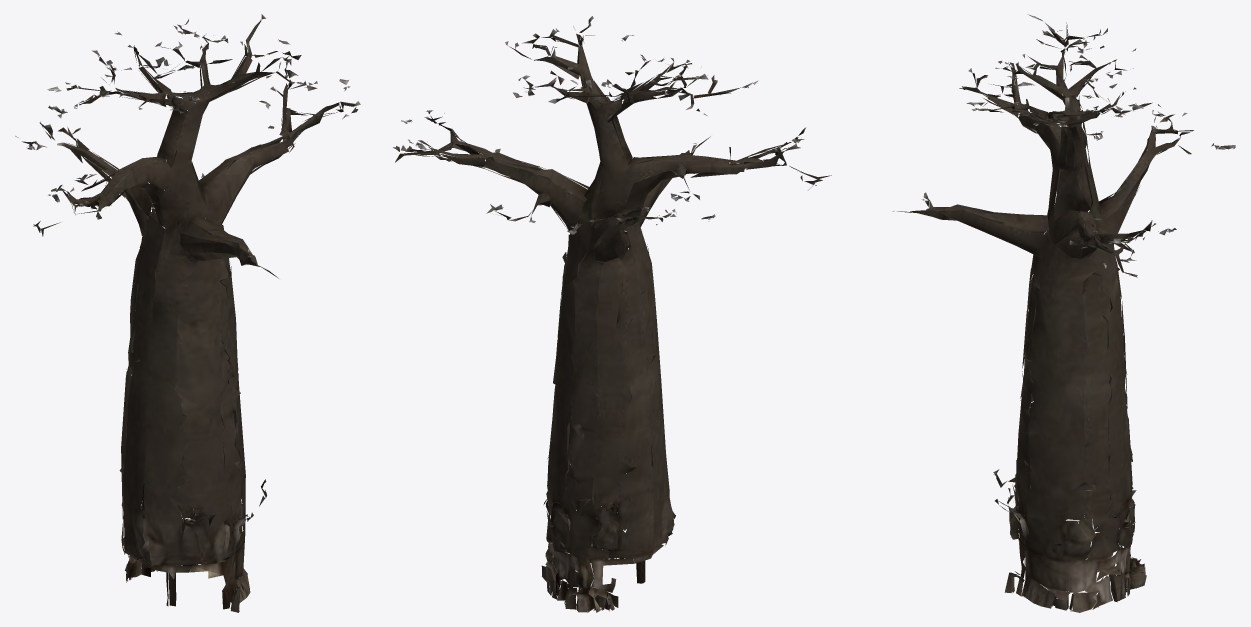
Rendered from baoba_zahar_morta.glb.
3 views of the same model, side by side, from view 1: azimuth 30°, elevation 25°; view 2: azimuth 150°, elevation 25°; view 3: azimuth 270°, elevation 25° (orthographic). The views are drawn at different scales.
Parts seen in each view (by area): view 1: geometry_0; view 2: geometry_0; view 3: geometry_0.
Part boxes in pixels (left/top/right/bottom): geometry_0: left=15, top=14, right=360, bottom=612; geometry_0: left=393, top=16, right=831, bottom=612; geometry_0: left=892, top=14, right=1235, bottom=612.
Size of the model in its own units: 0.7466 by 1 by 0.6196.
1 material, 1 textured.
